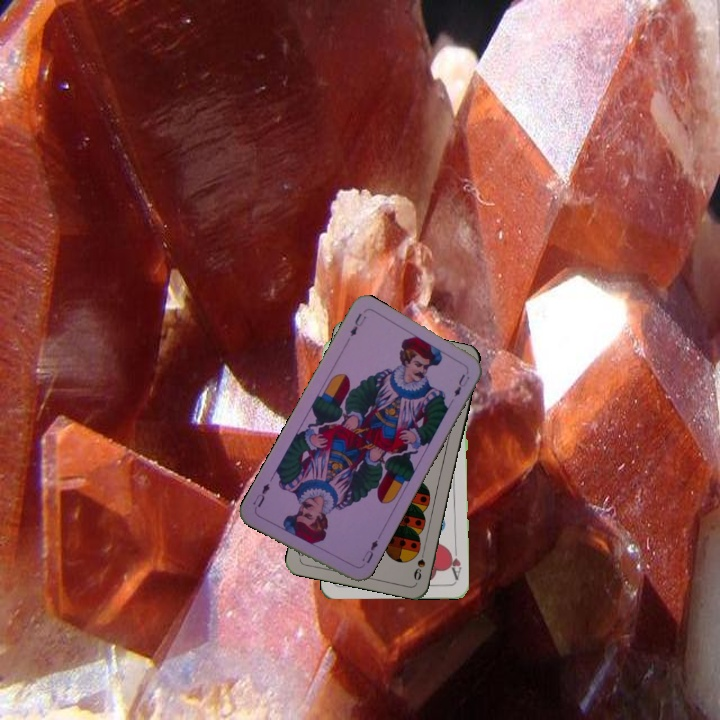EU: (346, 309, 369, 339), (358, 536, 380, 566)
HA: (445, 542, 464, 583)
S9: (410, 552, 428, 583)
